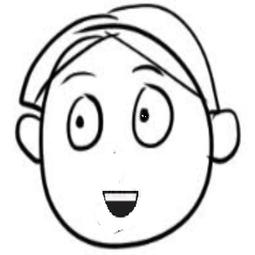ear: (204, 104, 243, 173), (13, 109, 53, 167)
eye: (126, 84, 175, 158), (62, 91, 106, 157)
eyebrow: (51, 68, 106, 86), (126, 61, 170, 81)
open_mouth: (101, 186, 149, 225)
